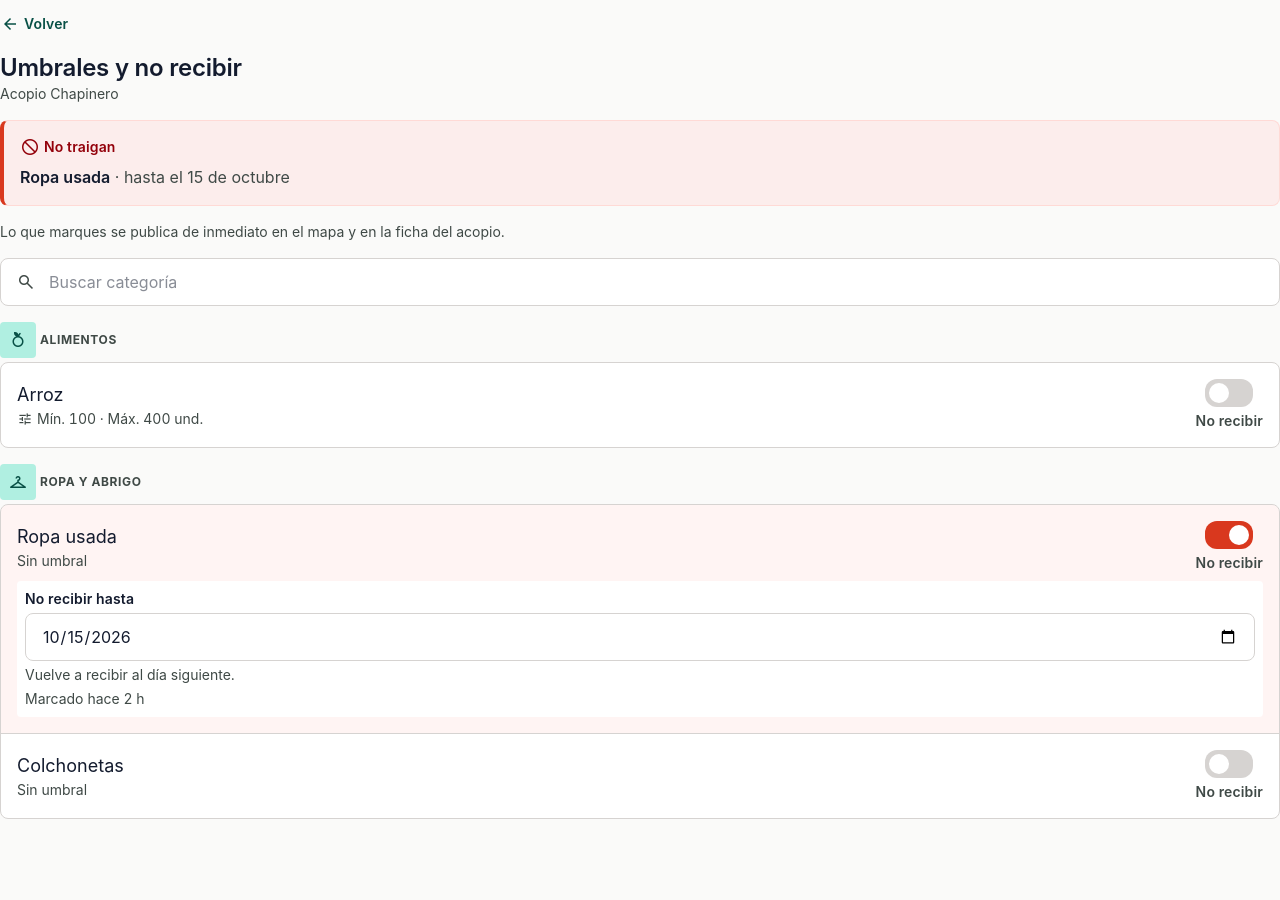
Test: C7 Umbrales › tocar la fila abre la hoja y guarda mínimo y máximo
Click the button "Colchonetas Sin umbral": (70, 766) top-left (17, 752), bottom-right (1188, 800)
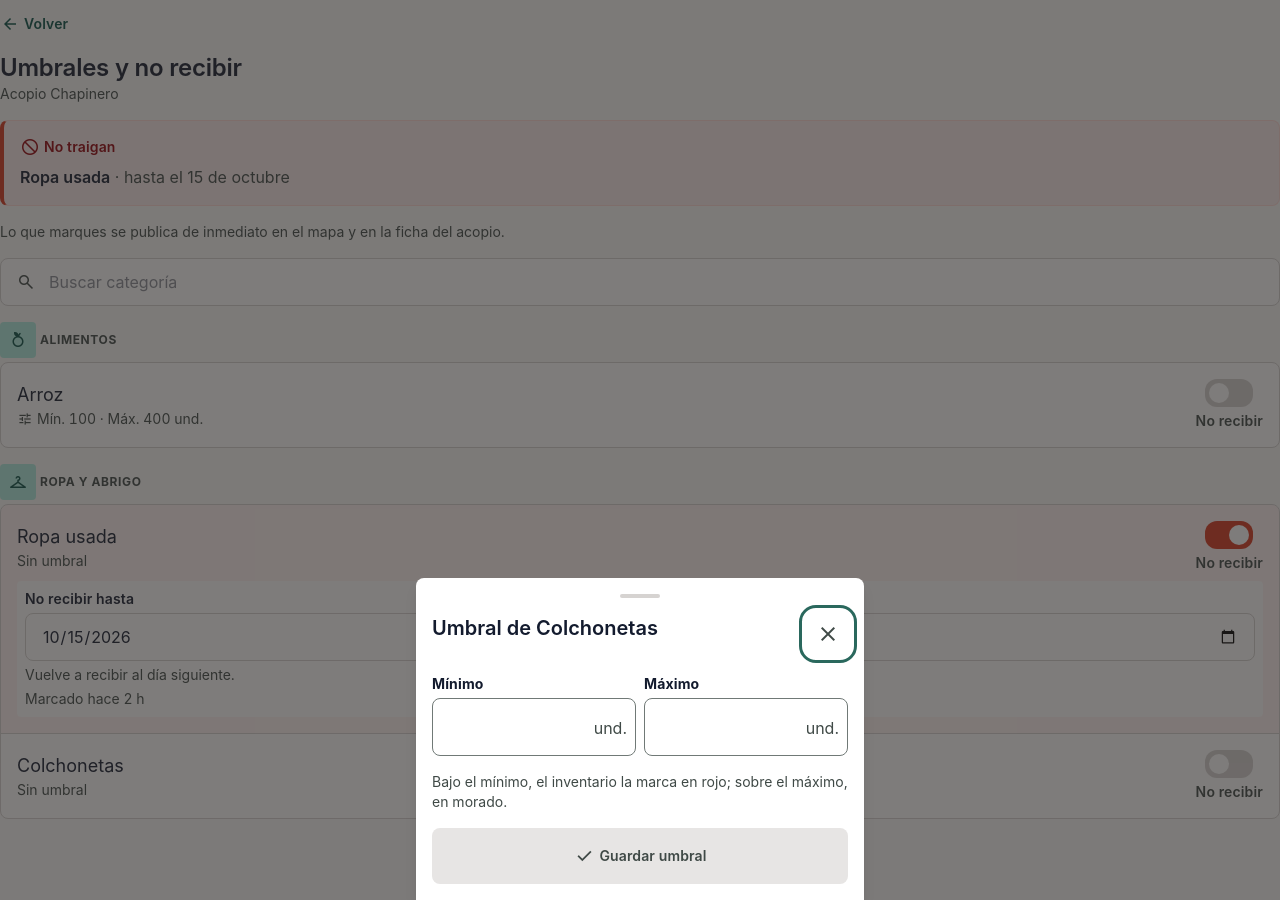
In the field labelled "Mínimo": (515, 727) top-left (441, 699), bottom-right (590, 755), type "10"
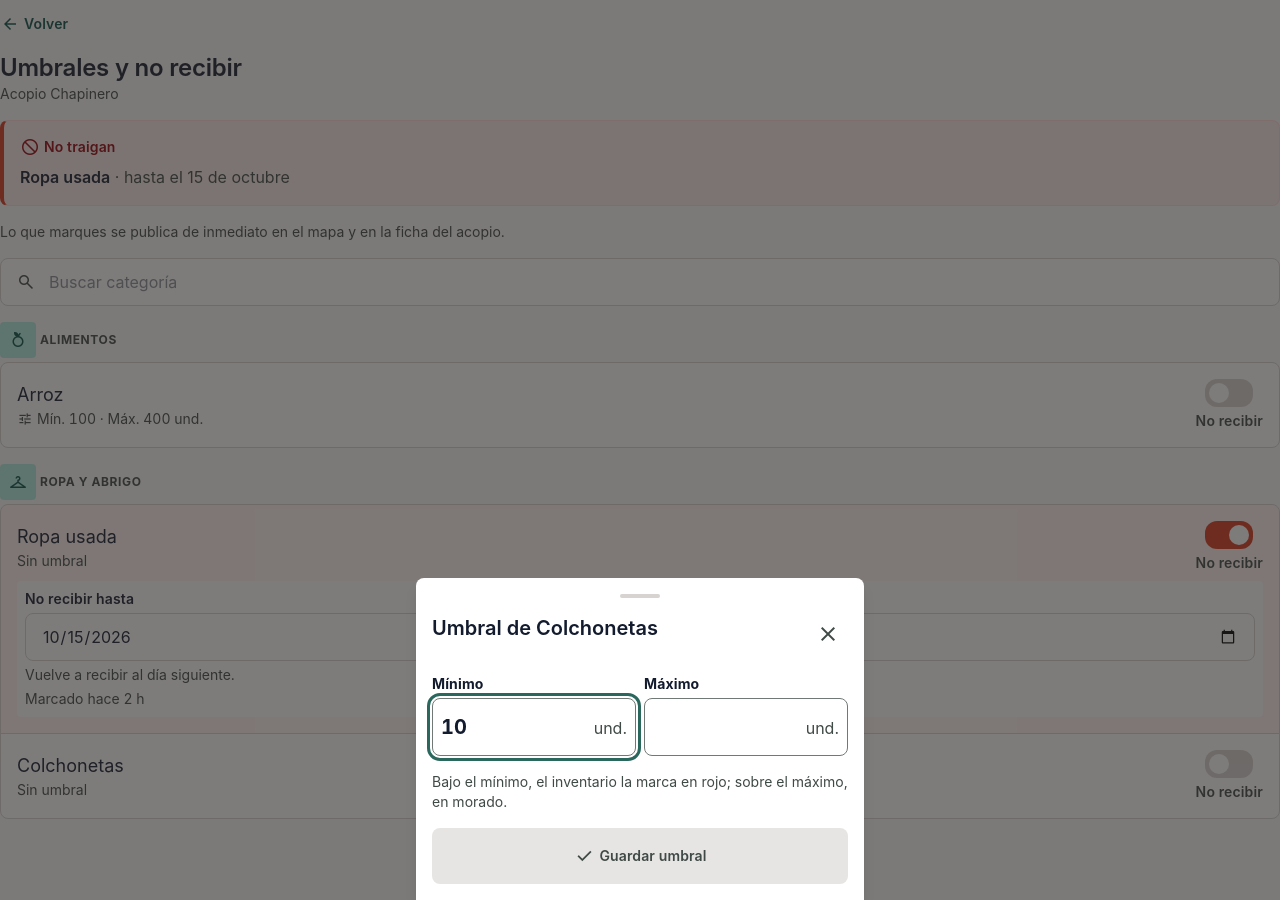
In the field labelled "Máximo": (727, 727) top-left (653, 699), bottom-right (802, 755), type "50"
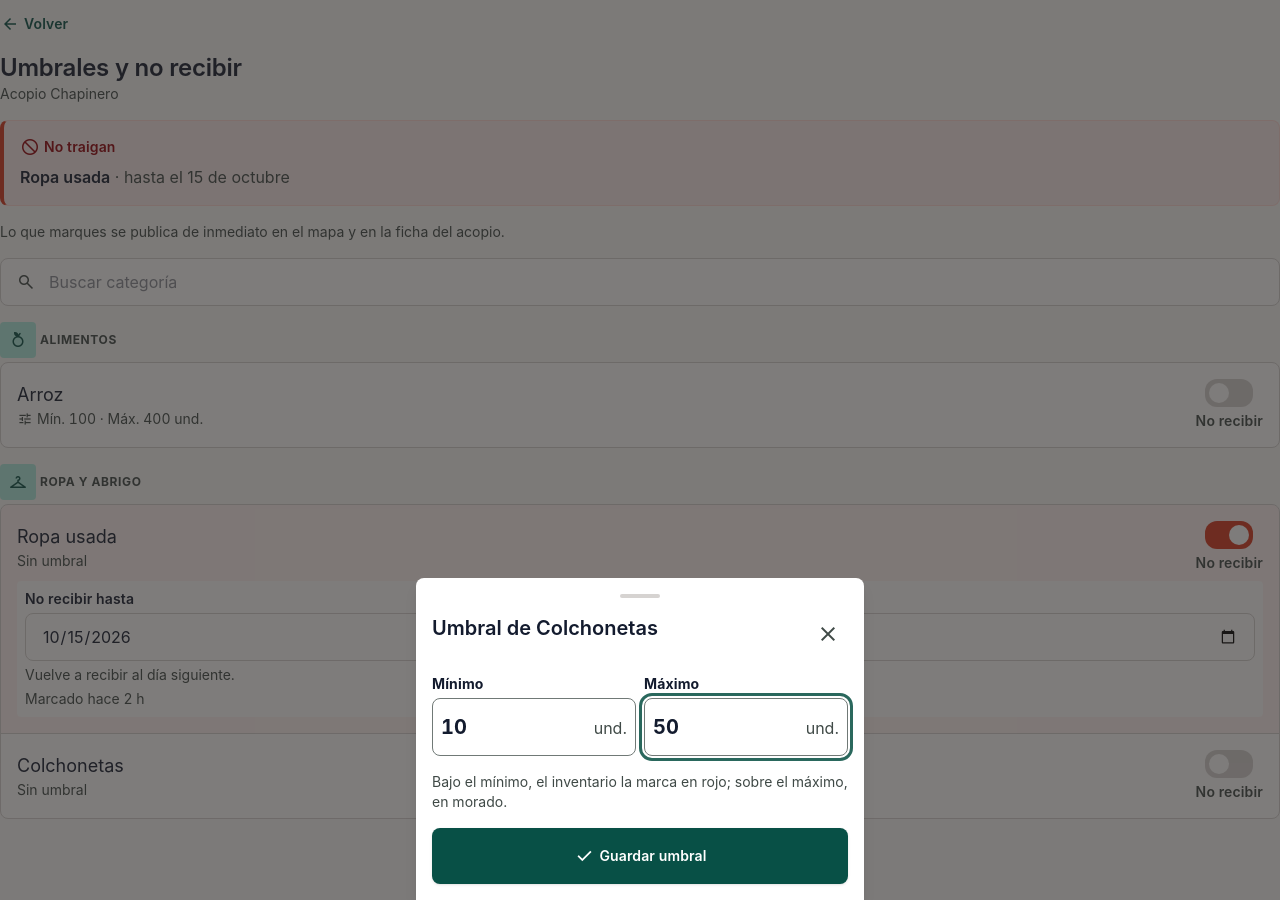
Click the button "Guardar umbral": (640, 856) top-left (432, 828), bottom-right (848, 884)
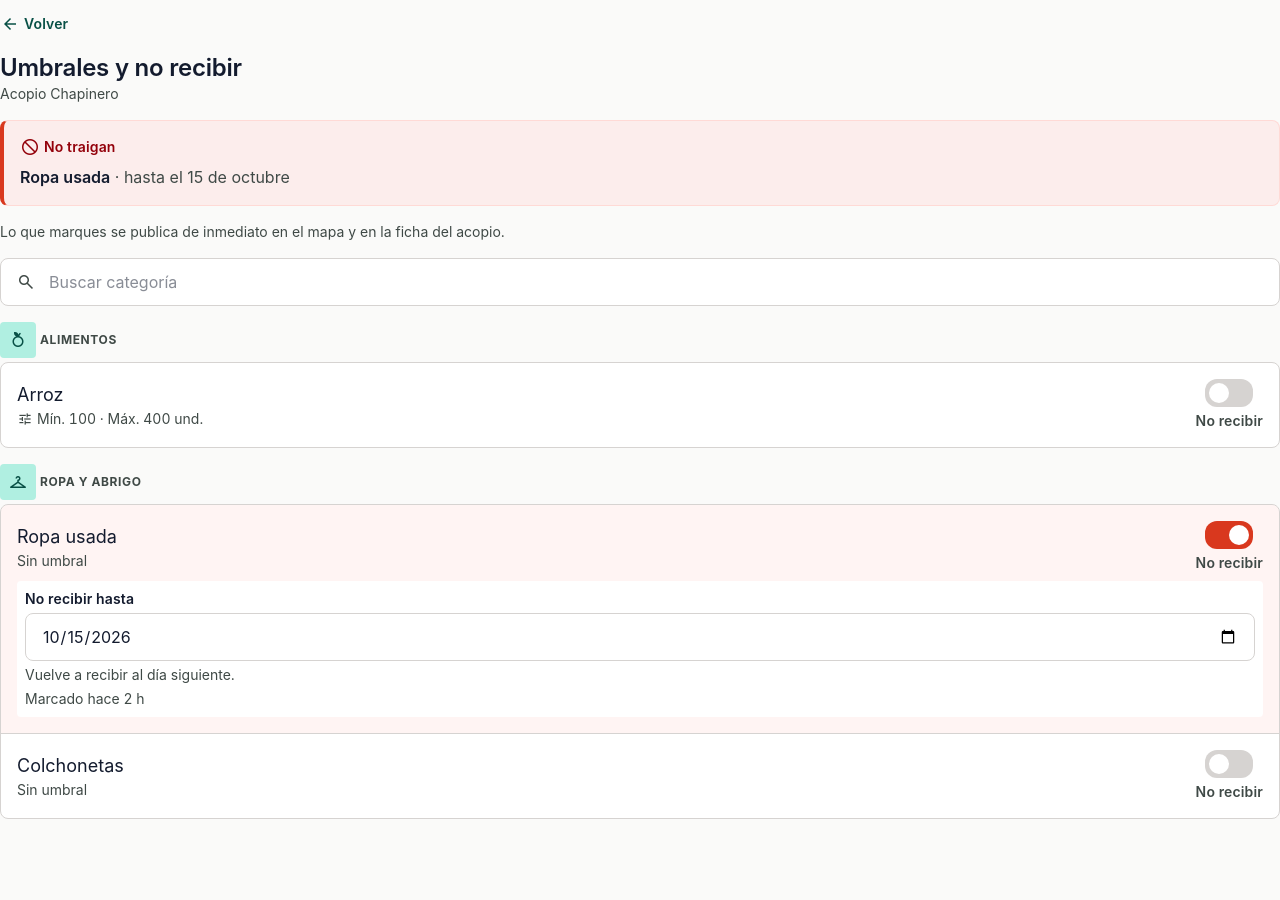
Expected: the dialog is gone
